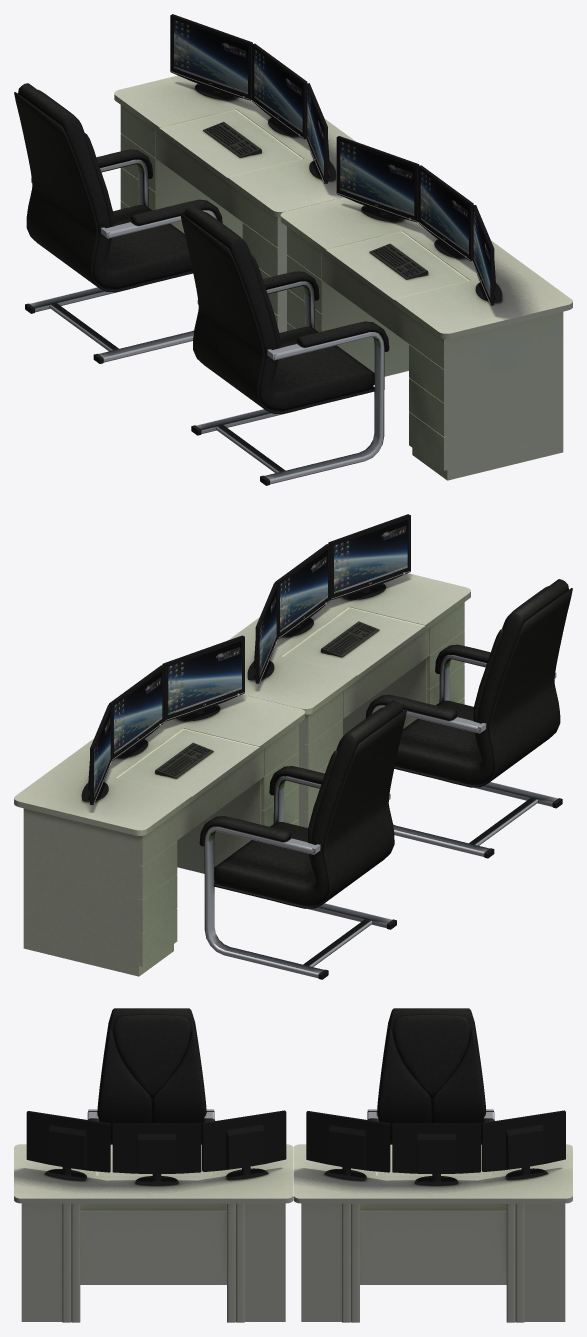
The picture shows the model from 3 angles, top to bottom: view 1: azimuth 30°, elevation 25°; view 2: azimuth 150°, elevation 25°; view 3: azimuth 270°, elevation 25°; orthographic projection. The views are drawn at different scales.
Visible parts, largest first — view 1: jk; view 2: jk; view 3: jk.
Boxes of the visible parts, x1=… form: jk: x1=14, y1=14, x2=572, y2=485; jk: x1=14, y1=514, x2=572, y2=979; jk: x1=14, y1=1008, x2=572, y2=1322.
Size of the model in its own units: 181 by 143 by 360.
4 materials, 4 textured.
